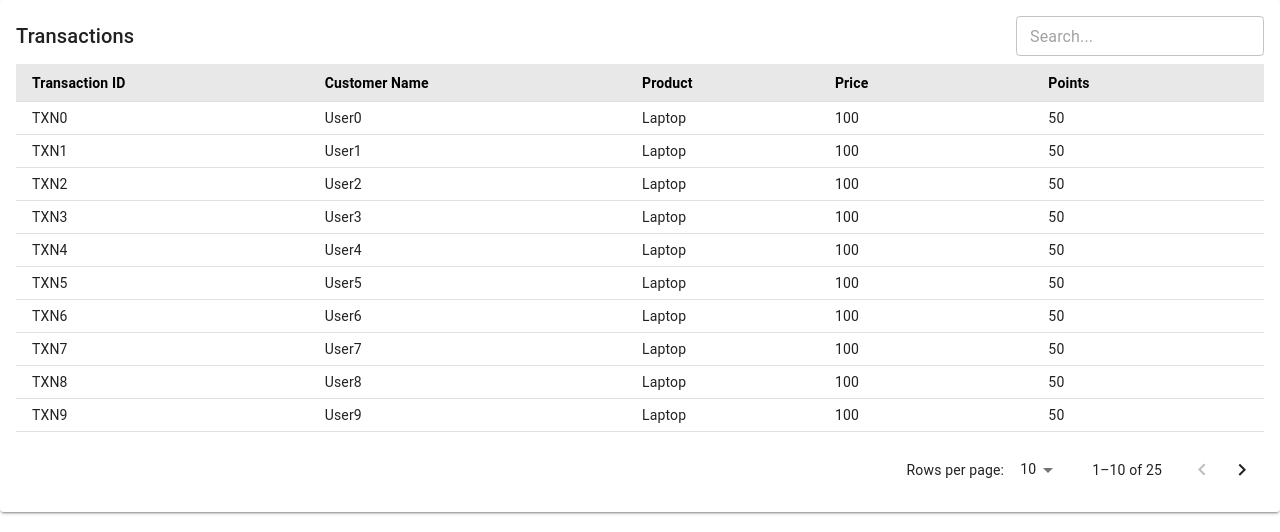
Test case: CustomTable › changes page using pagination controls
The width and height of the screenshot is (1280, 532).
Click the button named "next page" at (1242, 470), box [1222, 450, 1262, 490]
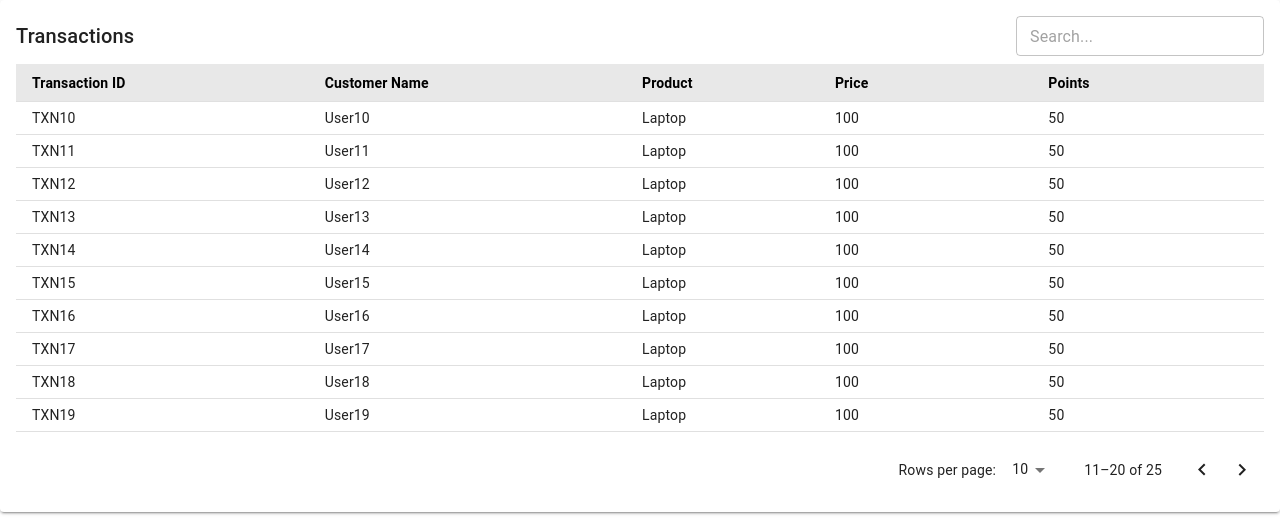
Expected: the text "User10" is shown, [309, 102, 626, 135]
